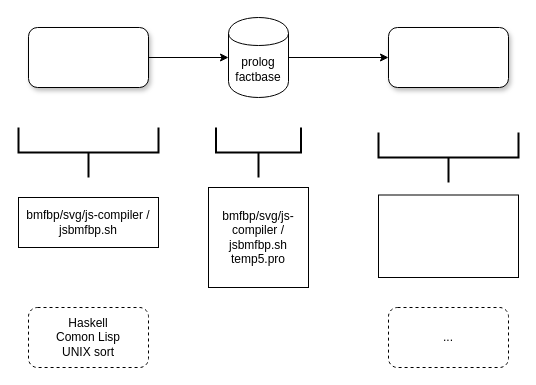
Some shapes in this 536 by 385 pixel diagram are drawn without their labels. The shapes that lost their labels are listed below. From the top down, each one's centre as x and y in pixels, then its label:
At point (89, 58): "Create Factbase from SVG".
At point (449, 58): "Diagram Compiler".
At point (448, 236): "bmfbp/svg/js-compiler / jsbmfbp.sh temp5.pro --> temp28.json".
